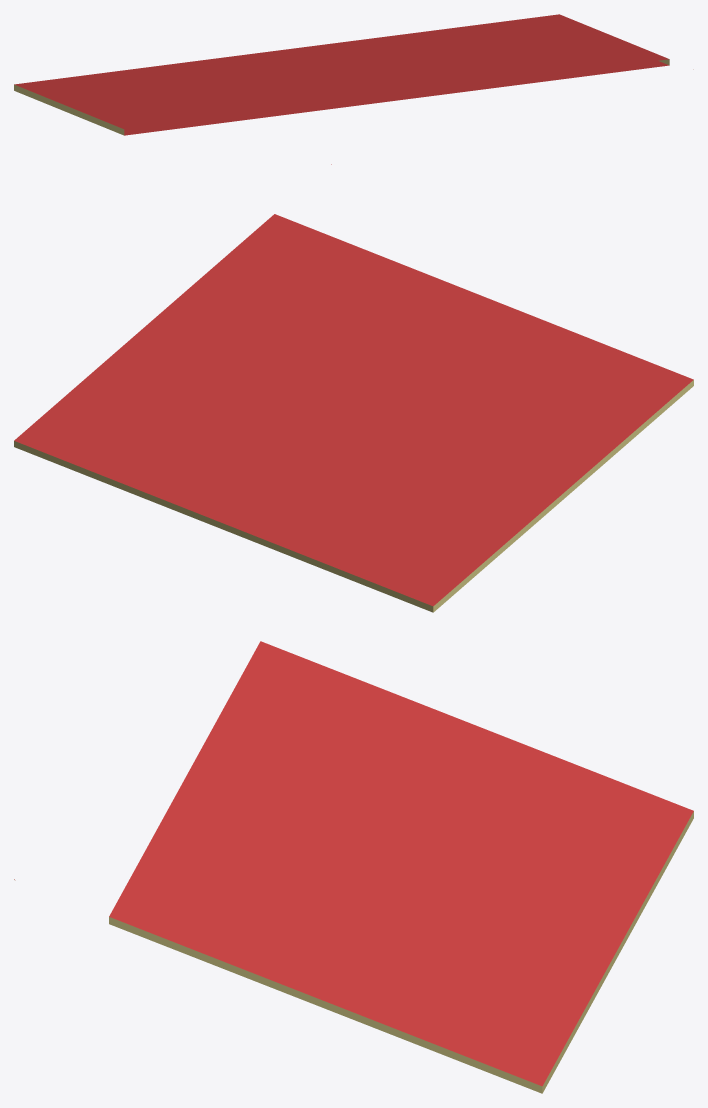
3 views of the same model, one above another, from view 1: azimuth 30°, elevation 25°; view 2: azimuth 150°, elevation 25°; view 3: azimuth 270°, elevation 25° (orthographic). The views are drawn at different scales.
Size of the model in its own units: 9.26 by 8.36 by 2.2.
